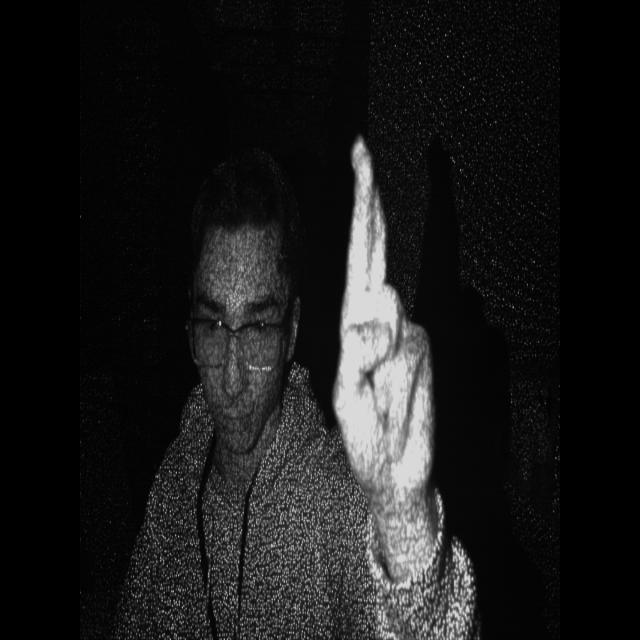R: (318, 101, 458, 564)
